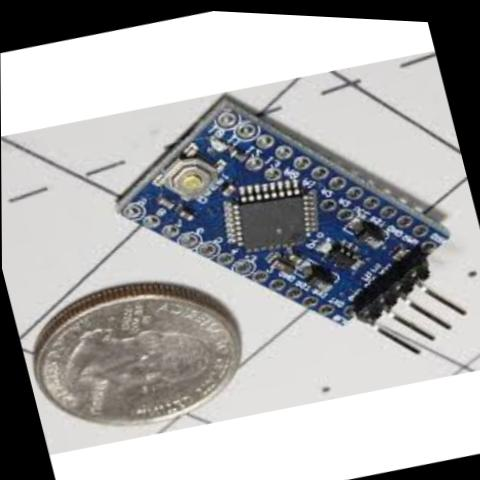Arduino-Pro-Mini: (78, 36, 480, 424)
